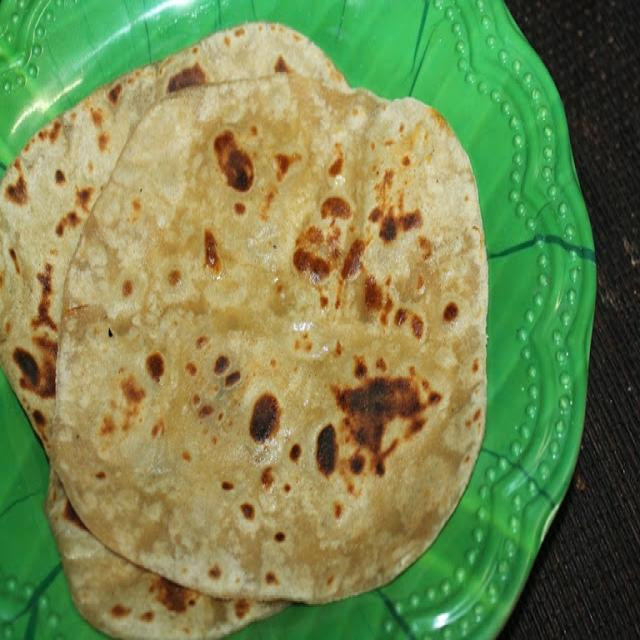roti: (52, 73, 487, 600), (0, 22, 346, 451), (45, 471, 283, 639)
